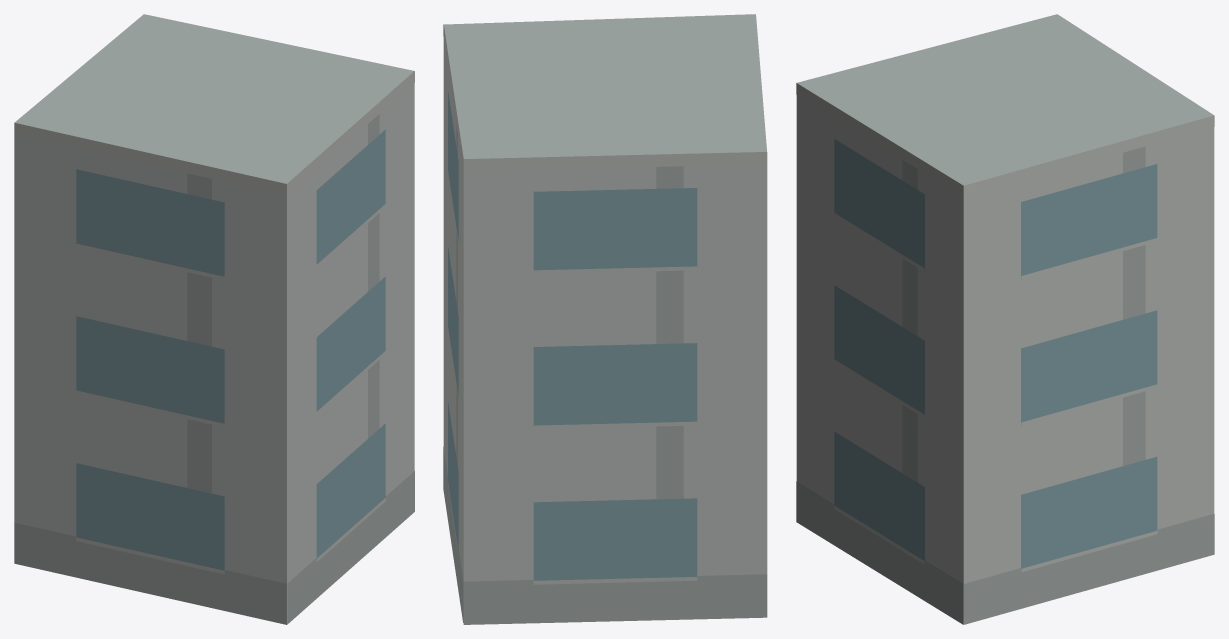
The model's file is survey-upis-32582003.glb.
3 views of the same model, side by side, from view 1: azimuth 30°, elevation 25°; view 2: azimuth 150°, elevation 25°; view 3: azimuth 270°, elevation 25° (orthographic). The views are drawn at different scales.
Parts seen in each view (by area): view 1: survey-upis-32582003.tmp; view 2: survey-upis-32582003.tmp; view 3: survey-upis-32582003.tmp.
Boxes of the visible parts, <box> form: survey-upis-32582003.tmp: <box>14,14,414,624</box>; survey-upis-32582003.tmp: <box>443,14,767,624</box>; survey-upis-32582003.tmp: <box>796,14,1214,624</box>.
Size of the model in its own units: 7.68 by 9.15 by 7.9.
